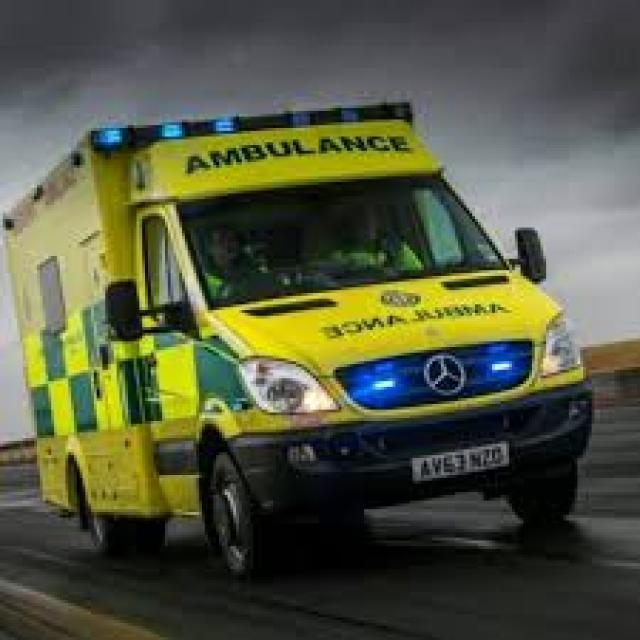Ambulance: (0, 84, 598, 598)
